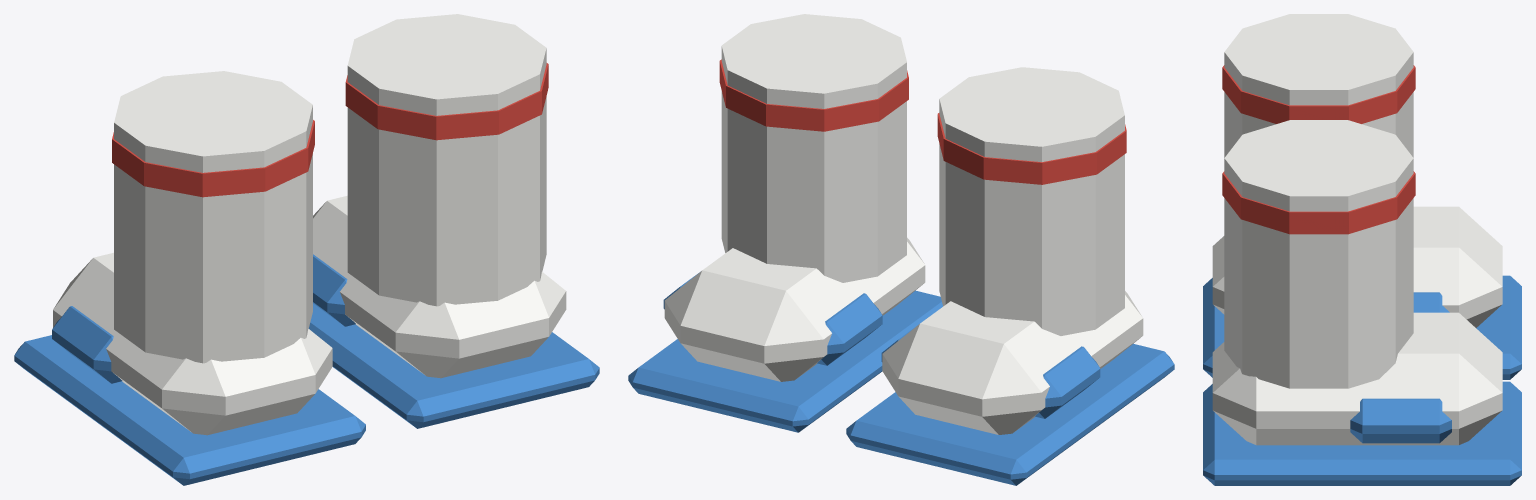
The model's file is shoes_slippers.glb.
3 views of the same model, side by side, from view 1: azimuth 30°, elevation 25°; view 2: azimuth 150°, elevation 25°; view 3: azimuth 270°, elevation 25° (orthographic). The views are drawn at different scales.
Visible parts, largest first — view 1: LegL, LegR; view 2: LegL, LegR; view 3: LegR, LegL.
Boxes of the visible parts, x1,y1,x2,y2 form: LegL: (14,71,365,485); LegR: (308,14,599,428); LegL: (846,67,1174,485); LegR: (628,14,942,432); LegR: (1203,120,1521,485); LegL: (1203,14,1521,379).
Bounding box in the file's own units: 0.475 × 0.33 × 0.33.
